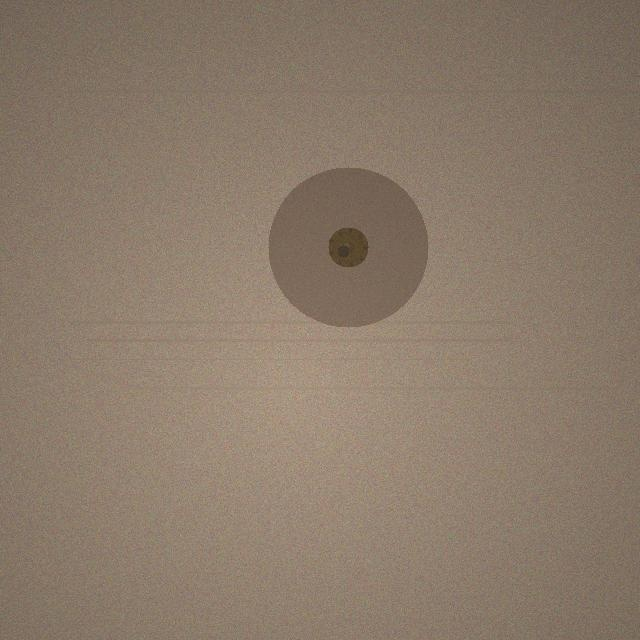cold_weld: (268, 167, 428, 327)
